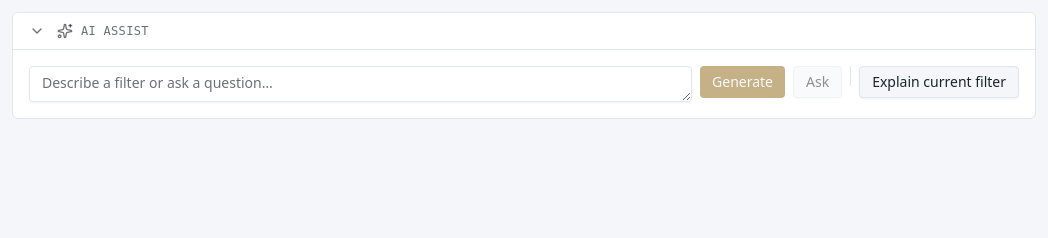
it: AiAssistBlock — ask / explain › 解釋:免輸入可按、堆疊出現回答
Step 1. Click the button "Explain current filter" → (939, 82), box [859,66,1019,98]
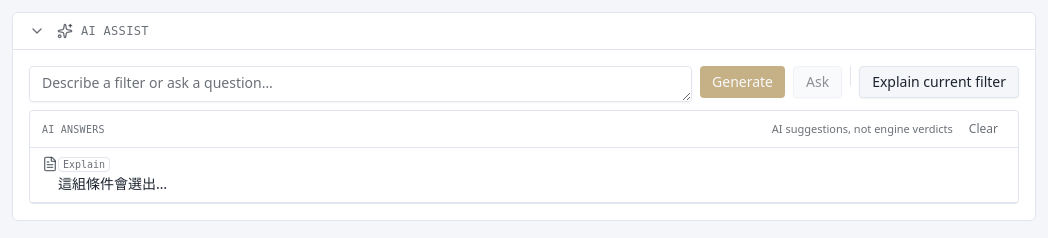
expect the text "這組條件會選出…" is shown: met, box [58,174,167,194]
